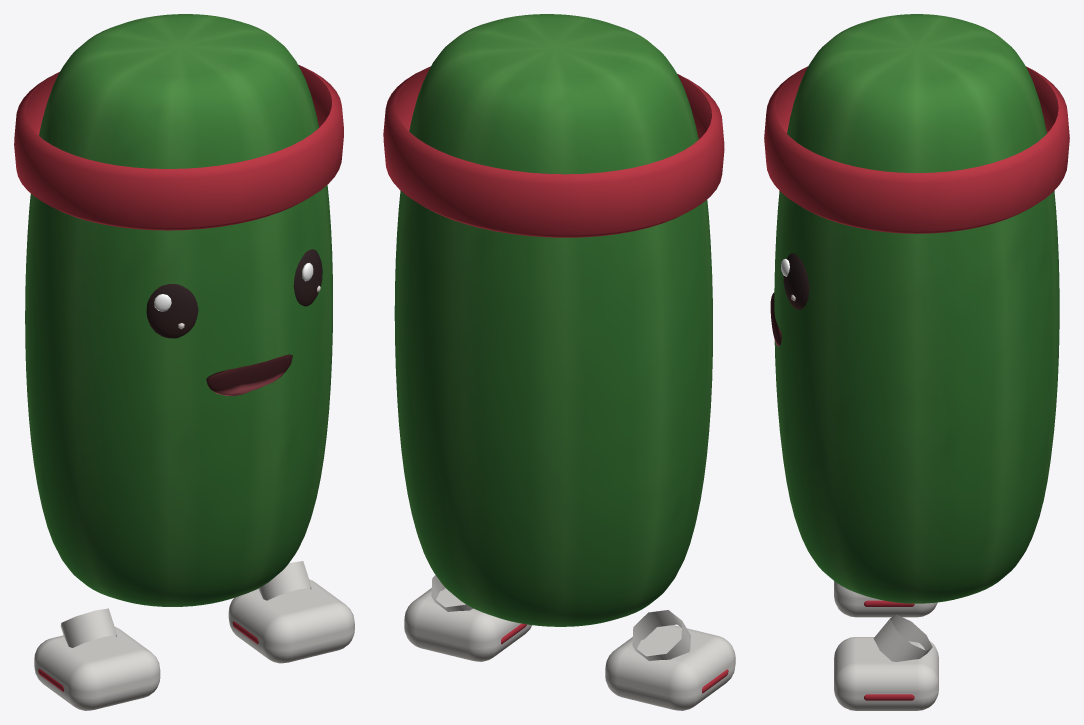
The model's file is folk_cuke.glb.
3 renders of one model, left to right at view 1: azimuth 30°, elevation 25°; view 2: azimuth 150°, elevation 25°; view 3: azimuth 270°, elevation 25°, orthographic. The views are drawn at different scales.
Parts seen in each view (by area): view 1: cuke_body, cuke_foot_l, cuke_foot_r, cuke_eye_l, cuke_eye_r; view 2: cuke_body, cuke_foot_l, cuke_foot_r; view 3: cuke_body, cuke_foot_r, cuke_foot_l, cuke_eye_r.
Part boxes in pixels (x1,y1,x2,y2): cuke_body: (14, 14, 343, 606); cuke_foot_l: (34, 608, 160, 710); cuke_foot_r: (228, 561, 354, 663); cuke_eye_l: (146, 284, 198, 338); cuke_eye_r: (293, 249, 322, 306); cuke_body: (383, 14, 724, 626); cuke_foot_l: (605, 610, 735, 710); cuke_foot_r: (404, 575, 531, 661); cuke_body: (764, 14, 1069, 603); cuke_foot_r: (834, 614, 938, 710); cuke_foot_l: (834, 581, 937, 617); cuke_eye_r: (781, 253, 809, 309).
Size of the model in its own units: 0.621 by 1.24 by 0.5713.
